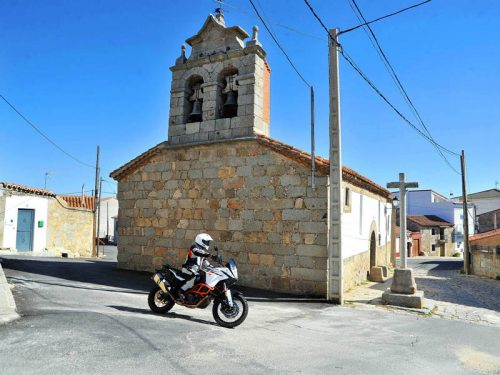Muro: (110, 135, 394, 298), (169, 27, 264, 137)
Persona: (181, 229, 216, 300)
Poste: (322, 27, 344, 306)
Vehiculo: (151, 263, 251, 329)
